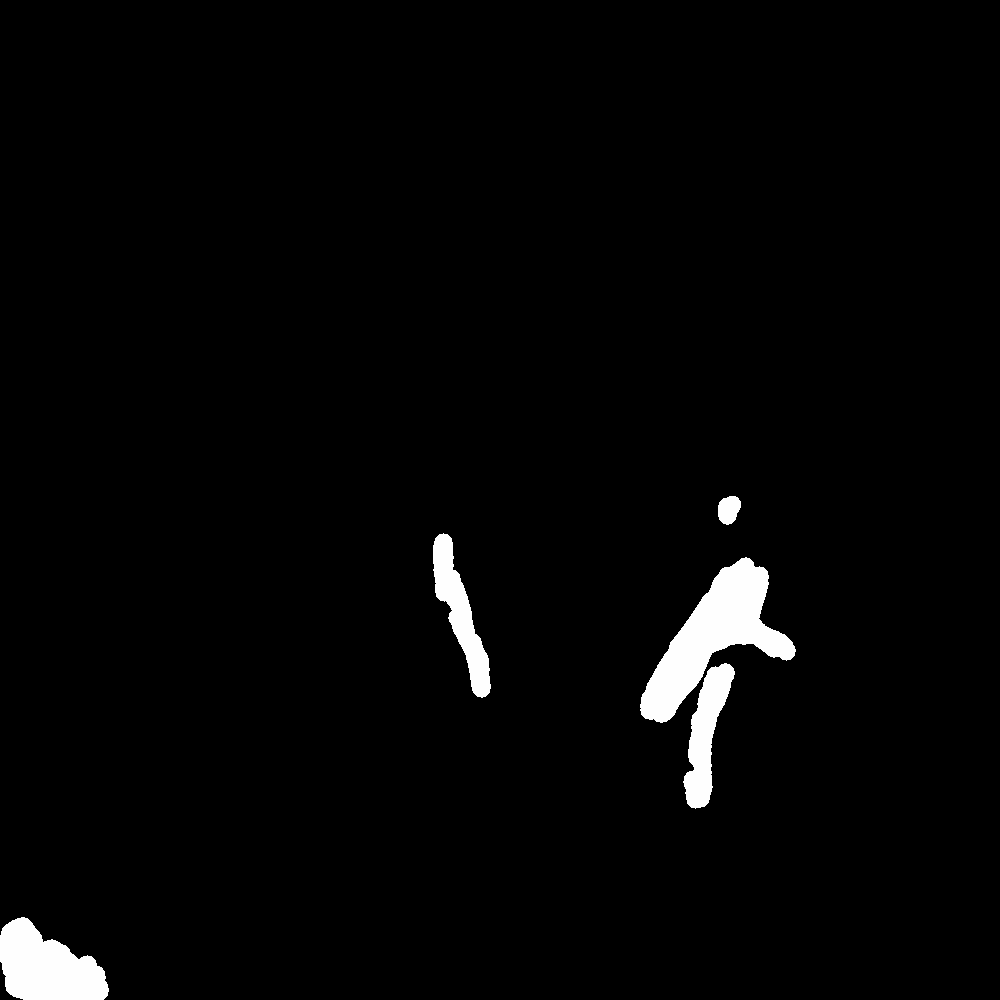illegal: (643, 503, 836, 813), (422, 532, 542, 743), (2, 927, 127, 1000), (581, 266, 648, 311)
